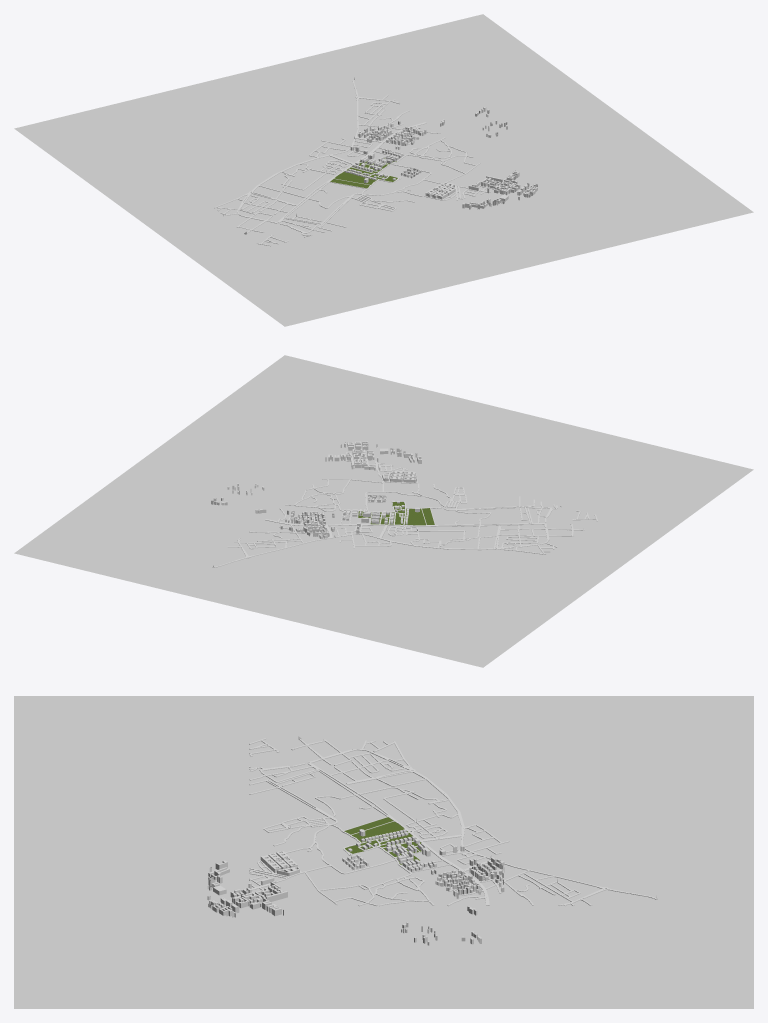
File: Elie Saab_mini_map.glb
The picture shows the model from 3 angles, top to bottom: view 1: azimuth 30°, elevation 25°; view 2: azimuth 150°, elevation 25°; view 3: azimuth 270°, elevation 25°; orthographic projection. The views are drawn at different scales.
Parts seen in each view (by area): view 1: land, road, build, tree; view 2: land, road, build, tree; view 3: land, road, build, tree.
Boxes of the visible parts, x1=… form: land: x1=14, y1=14, x2=753, y2=326; road: x1=214, y1=77, x2=495, y2=236; build: x1=256, y1=107, x2=537, y2=246; tree: x1=330, y1=158, x2=397, y2=188; land: x1=14, y1=355, x2=753, y2=667; road: x1=212, y1=455, x2=584, y2=567; build: x1=211, y1=441, x2=597, y2=538; tree: x1=358, y1=502, x2=434, y2=525; land: x1=14, y1=696, x2=753, y2=1008; road: x1=249, y1=736, x2=657, y2=906; build: x1=207, y1=738, x2=504, y2=945; tree: x1=344, y1=817, x2=428, y2=864.
Bounding box in the file's own units: 5193 × 72.19 × 5193.
Materials: 4 (1 with a texture image).
